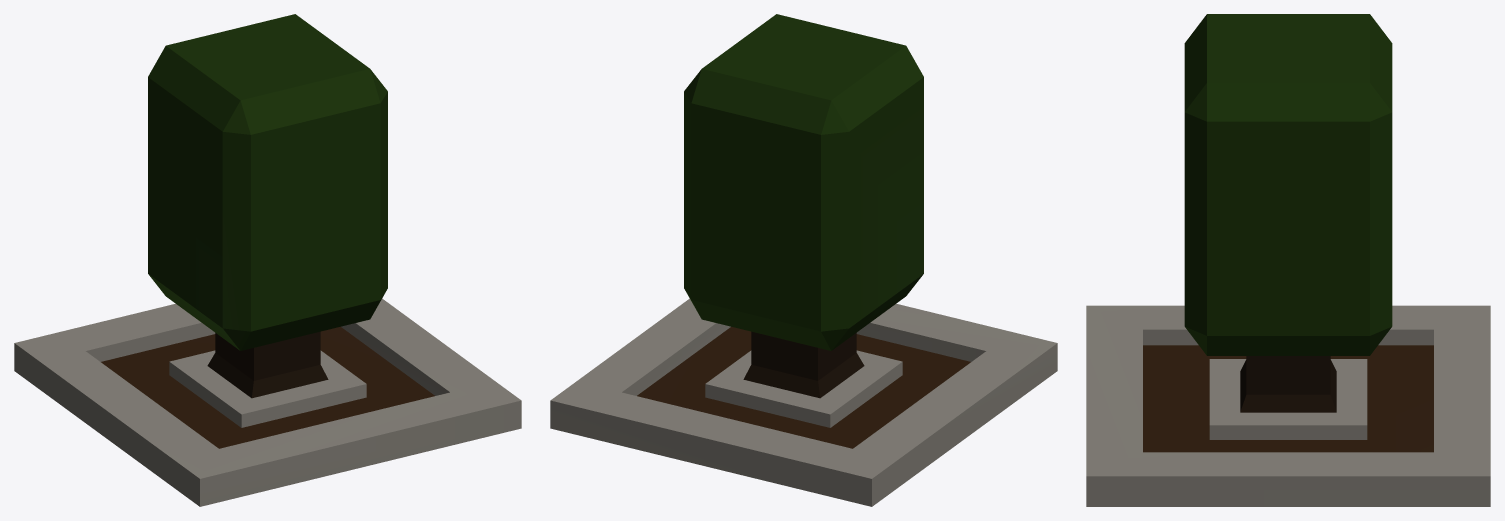
The model's file is AssetsMatheus.fbx_Arbusto_Baixo.fbx.
3 renders of one model, left to right at view 1: azimuth 30°, elevation 25°; view 2: azimuth 150°, elevation 25°; view 3: azimuth 270°, elevation 25°, orthographic. The views are drawn at different scales.
Visible parts, largest first — view 1: ArbustoBaixo; view 2: ArbustoBaixo; view 3: ArbustoBaixo.
Boxes of the visible parts, left/top/right/bottom form: ArbustoBaixo: left=14, top=14, right=521, bottom=506; ArbustoBaixo: left=550, top=14, right=1057, bottom=506; ArbustoBaixo: left=1086, top=14, right=1490, bottom=506.
Size of the model in its own units: 54 by 54.98 by 54.
